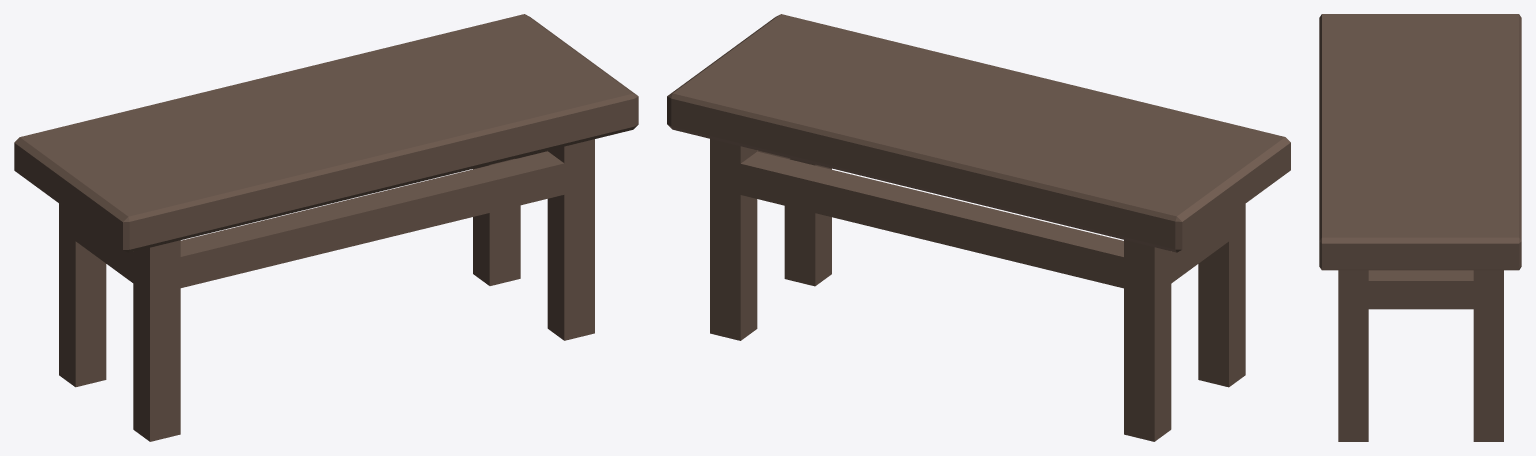
The model's file is Cocina_MesaRectangular_11.fbx.
The picture shows the model from 3 angles, left to right: view 1: azimuth 30°, elevation 25°; view 2: azimuth 150°, elevation 25°; view 3: azimuth 270°, elevation 25°; orthographic projection. The views are drawn at different scales.
Visible parts, largest first — view 1: mesa rectangular; view 2: mesa rectangular; view 3: mesa rectangular.
Part boxes in pixels (left/top/right/bottom): mesa rectangular: left=14, top=14, right=638, bottom=441; mesa rectangular: left=667, top=14, right=1290, bottom=441; mesa rectangular: left=1319, top=14, right=1521, bottom=441.
Bounding box in the file's own units: 162 × 72.01 × 60.72.
Materials: 1 (1 with a texture image).
